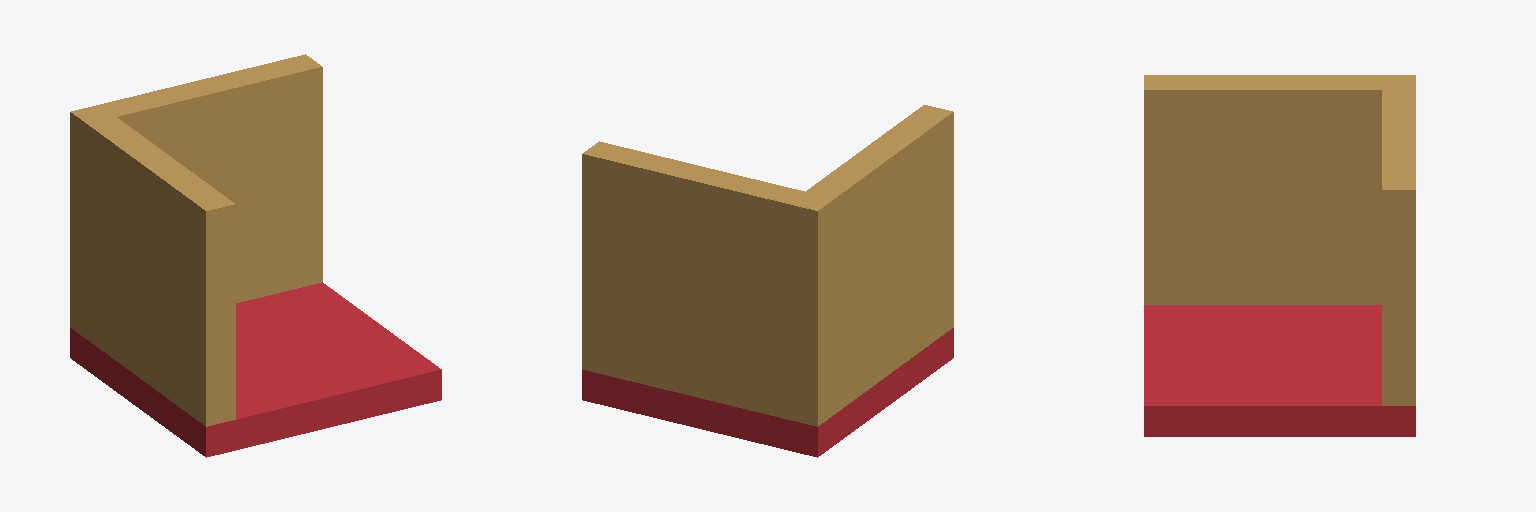
File: BigCorner.obj
The picture shows the model from 3 angles: view 1: azimuth 30°, elevation 25°; view 2: azimuth 150°, elevation 25°; view 3: azimuth 270°, elevation 25°; orthographic projection.
Visible parts, largest first — view 1: BigCorner_Cube.010; view 2: BigCorner_Cube.010; view 3: BigCorner_Cube.010.
Boxes of the visible parts, box(x1,y1,x2,y2) form: BigCorner_Cube.010: box(70, 54, 441, 457); BigCorner_Cube.010: box(582, 105, 953, 457); BigCorner_Cube.010: box(1144, 75, 1415, 436).
Bounding box in the file's own units: 2 × 2 × 2.